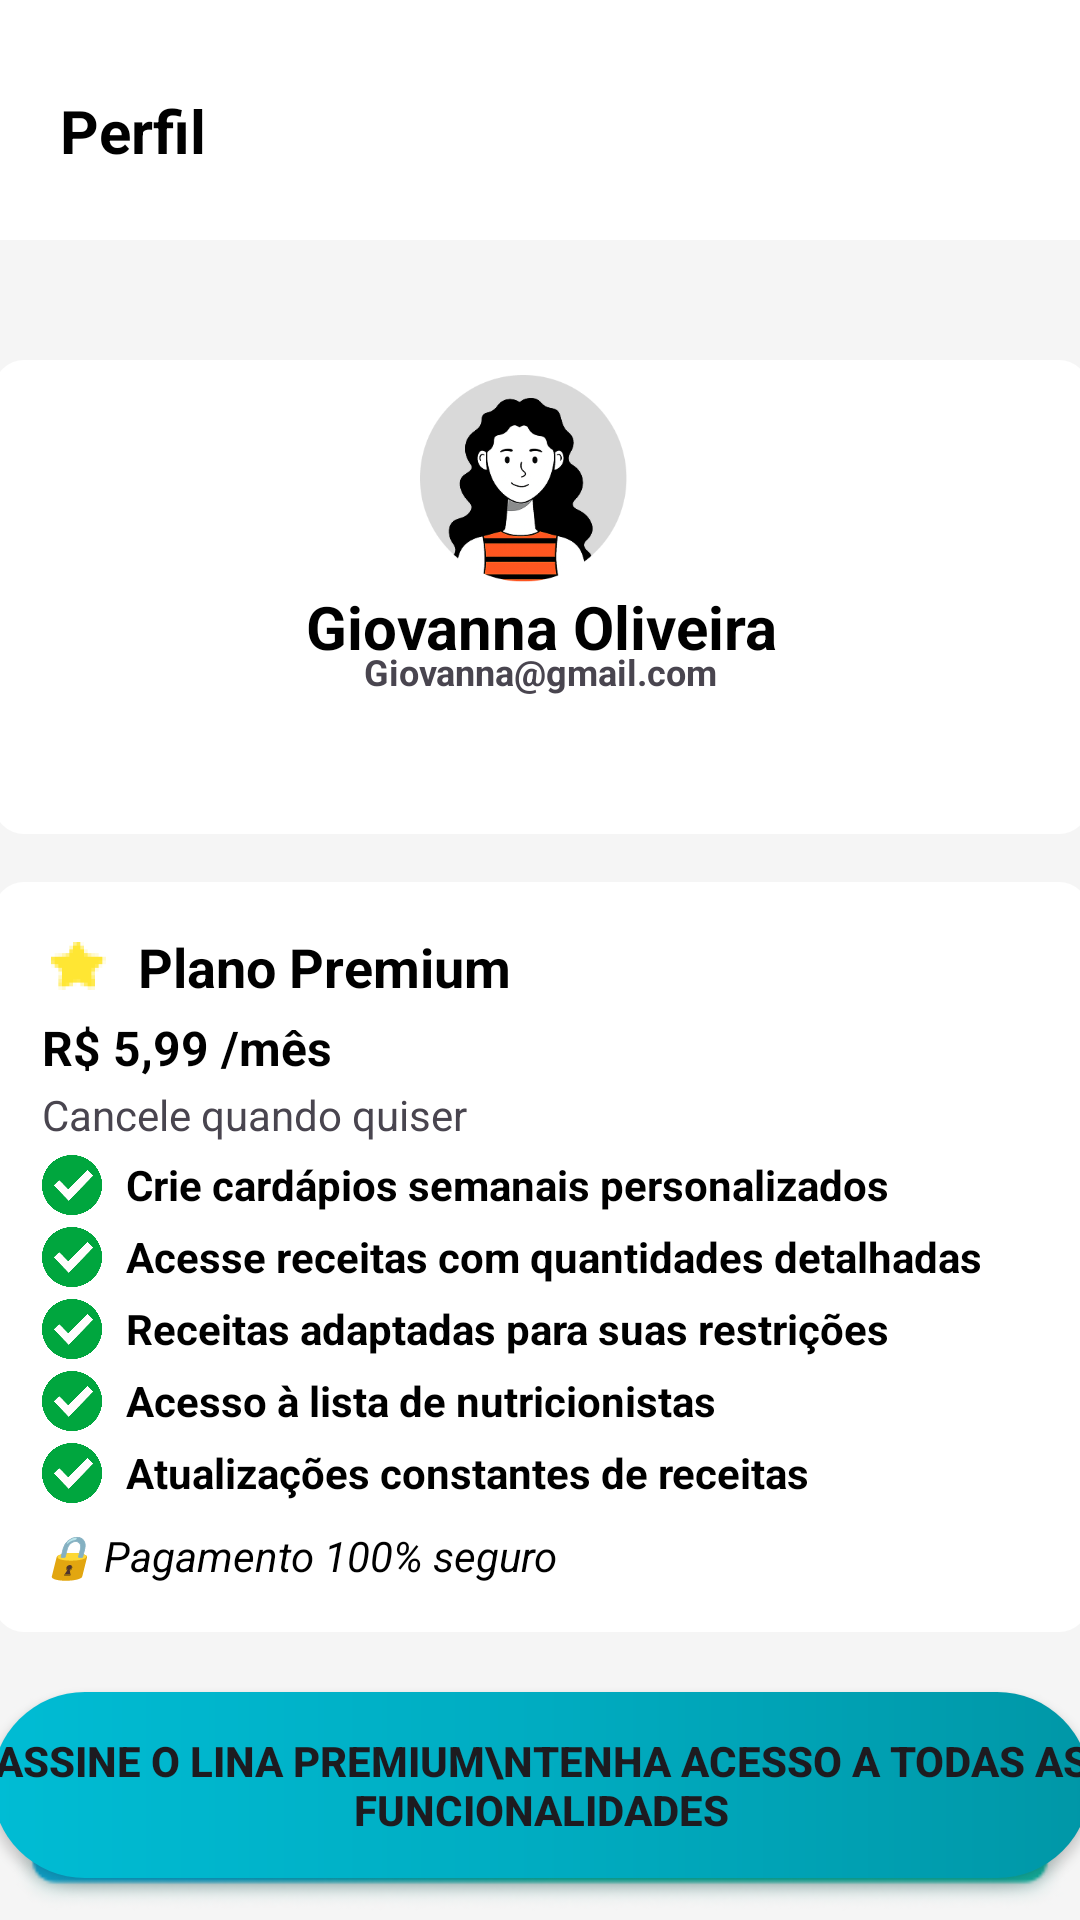

Icons on this 1080*1920 Android screen, each with its box as bbox=[x1, y1, x2, y2]:
check: bbox=[42, 1155, 102, 1215], bbox=[42, 1227, 102, 1287], bbox=[42, 1299, 102, 1359], bbox=[42, 1371, 102, 1431], bbox=[42, 1443, 102, 1503]
perfil foto: bbox=[420, 375, 626, 582]
Ícone estrela: bbox=[51, 942, 106, 990]
